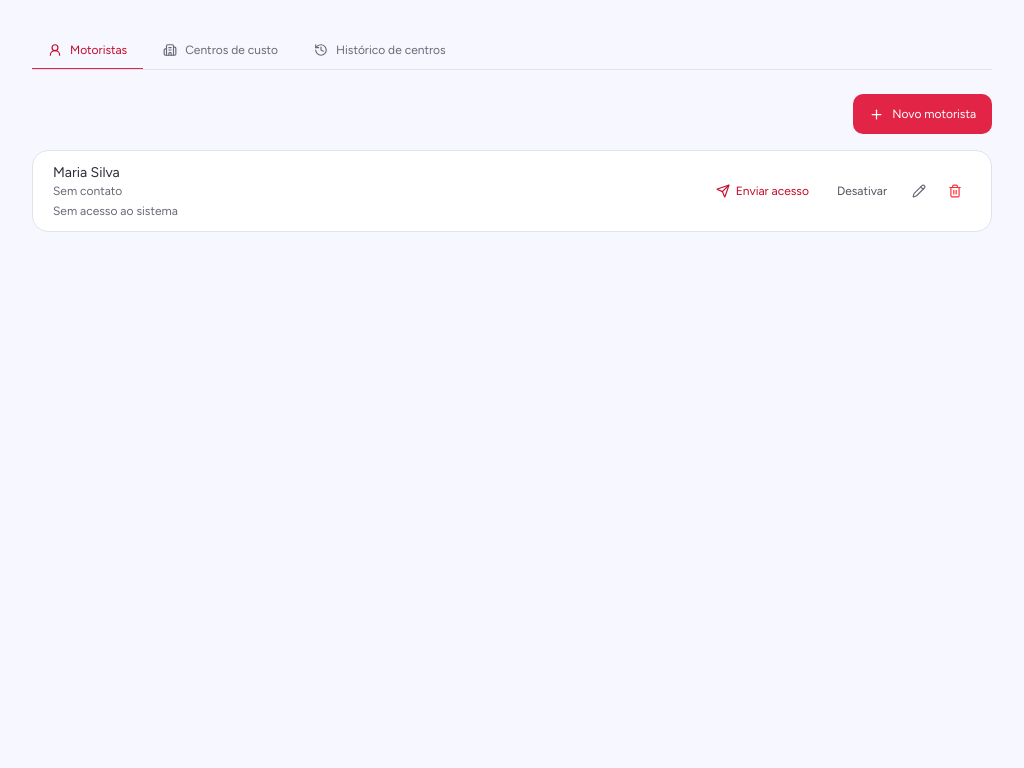
it: Cadastros: acesso do motorista › mostra a recusa do servidor e mantém o formulário aberto
Click the button with aria-label "Enviar acesso para Maria Silva" at (762, 191), box [704, 175, 821, 207]
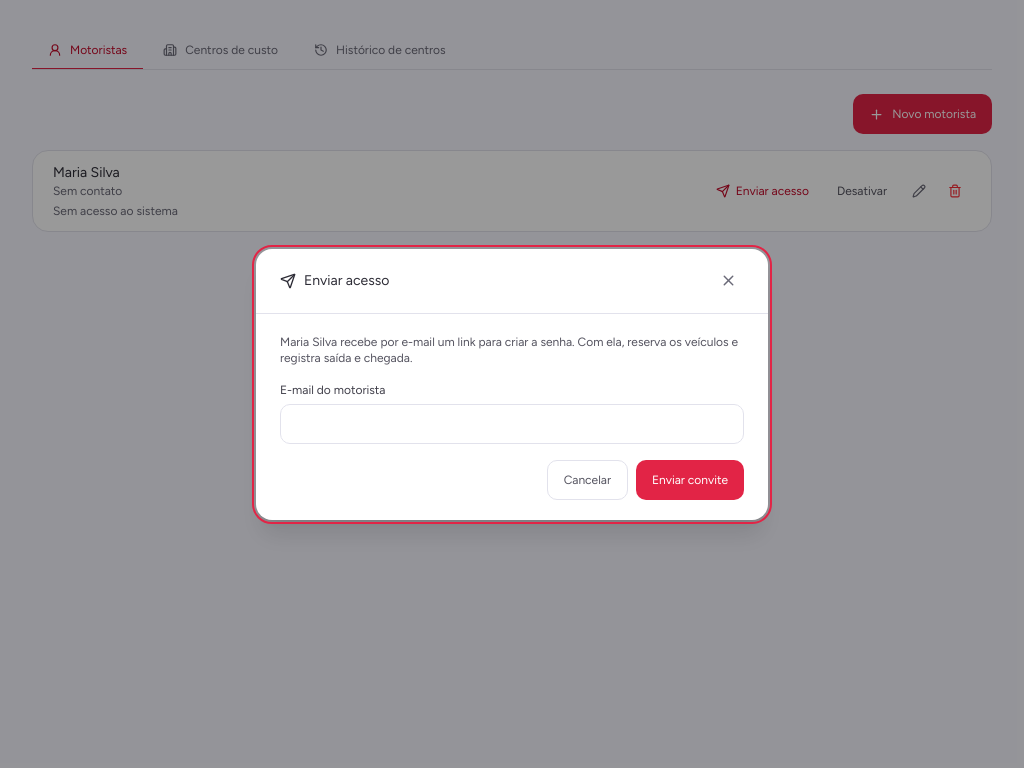
Type "maria@empresa.com.br" into the field labelled "E-mail do motorista" at (512, 424), box [280, 404, 744, 444]
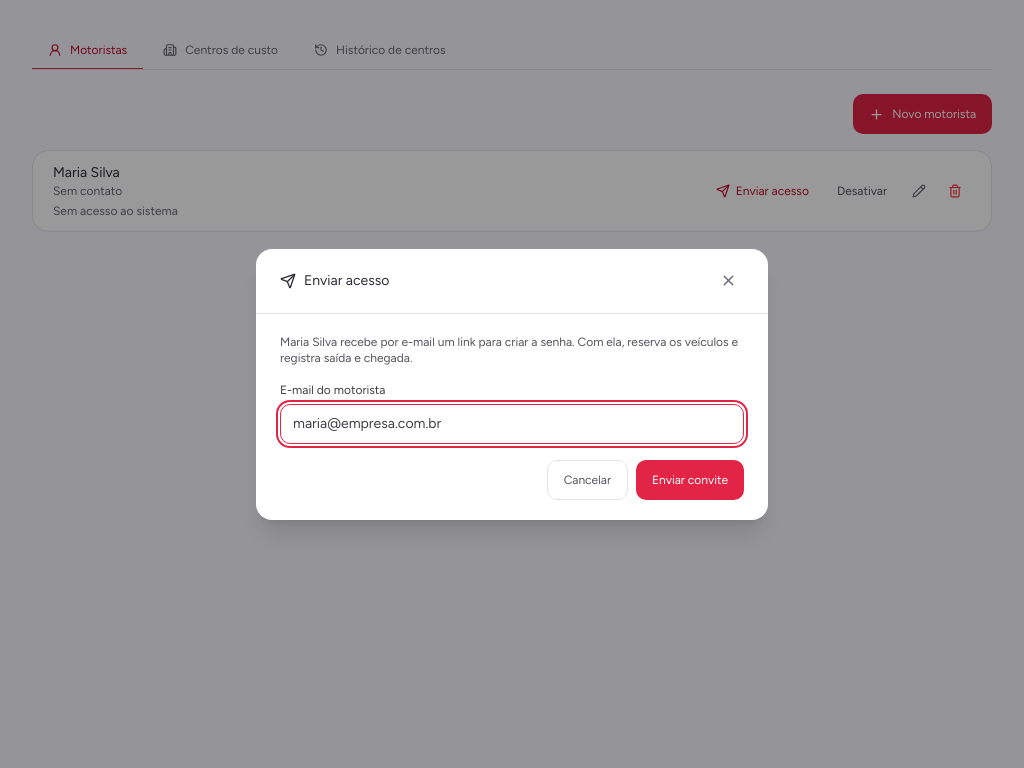
Click the button "Enviar convite" at (690, 480), box [636, 460, 744, 500]
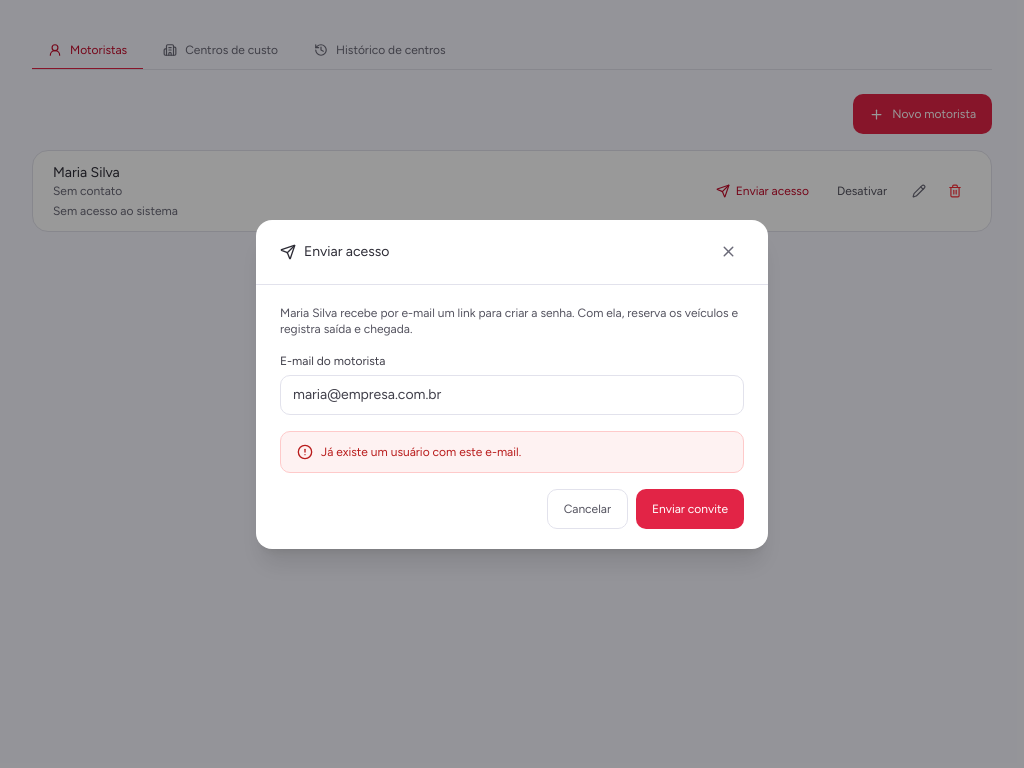
Result: the message reads "Já existe um usuário com este e-mail." at [321, 444, 521, 458]
